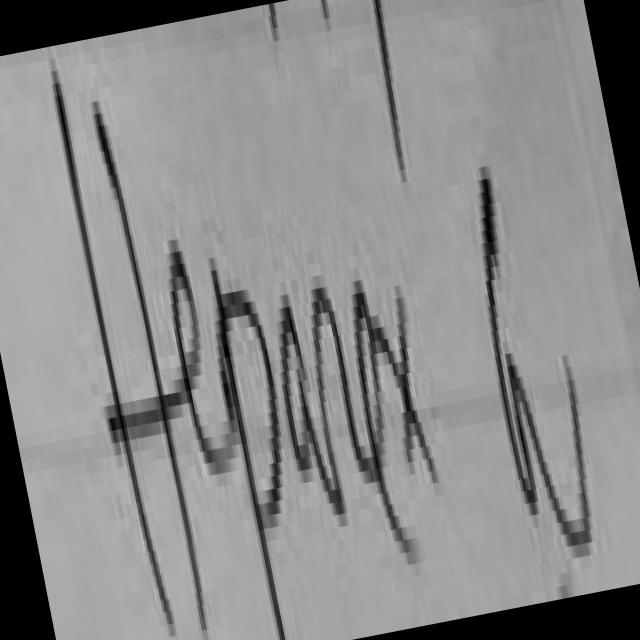G: (480, 166, 592, 566)
H: (54, 71, 206, 636)
a: (283, 295, 342, 532)
e: (351, 281, 424, 560), (167, 236, 234, 475)
p: (218, 282, 288, 640)
r: (315, 287, 374, 525)
x: (374, 286, 439, 486)
